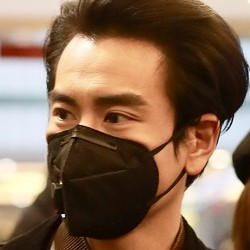mask: (38, 116, 180, 239)
